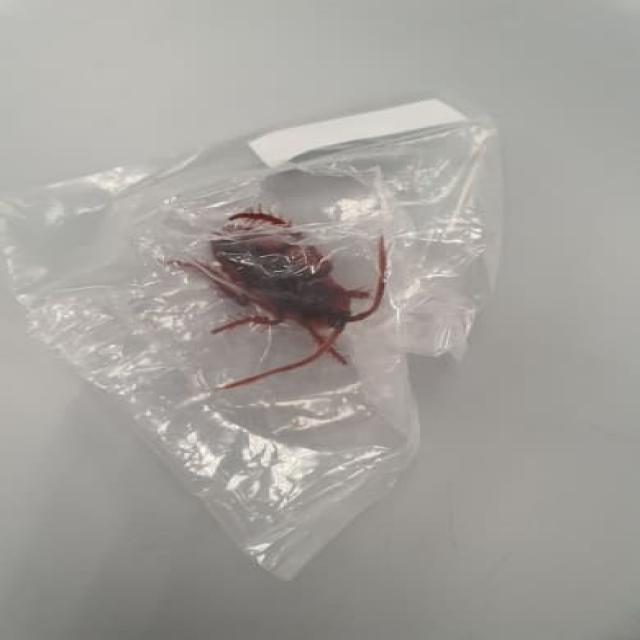Cockroach: (166, 199, 397, 404)
